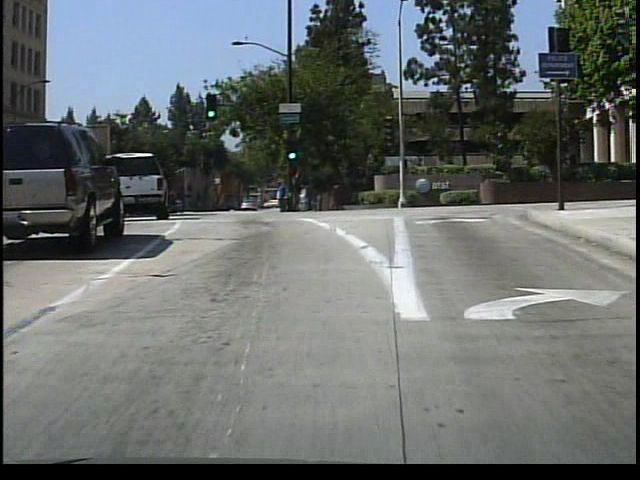person: (272, 173, 292, 214), (295, 180, 315, 215)
